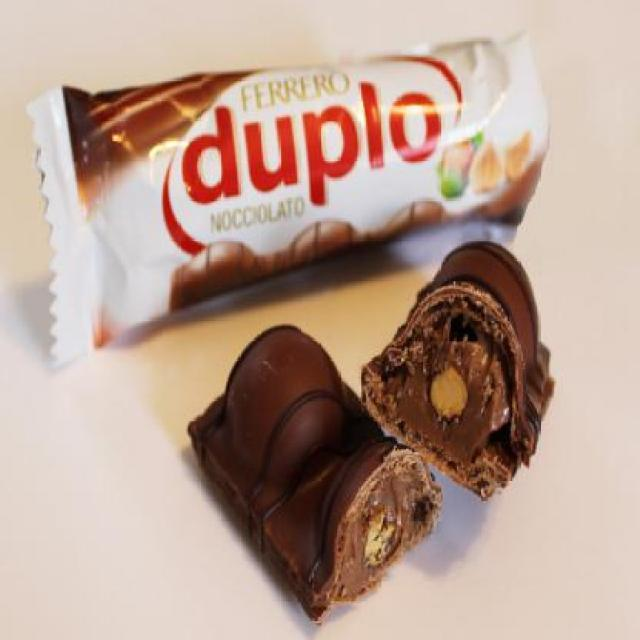Chocolate bar: (29, 29, 558, 342)
Chocolate bar packaged: (176, 324, 455, 624), (360, 242, 558, 508)
